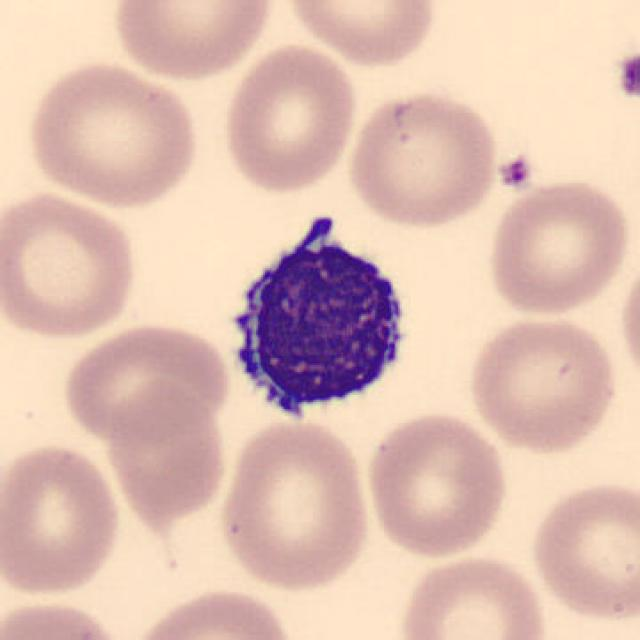Lymphocyte: (213, 208, 425, 437)
Platelets: (611, 47, 640, 104), (496, 152, 535, 192)
RBC: (215, 414, 377, 594), (18, 58, 204, 210), (343, 86, 503, 231), (363, 407, 512, 561), (462, 312, 620, 457), (57, 319, 235, 446), (0, 187, 144, 342), (219, 41, 361, 198), (482, 175, 633, 319), (0, 439, 126, 601), (103, 384, 231, 528), (524, 476, 640, 626), (395, 550, 551, 640), (109, 0, 278, 83), (279, 0, 441, 69), (126, 583, 300, 640), (0, 594, 130, 640), (615, 252, 640, 392)
